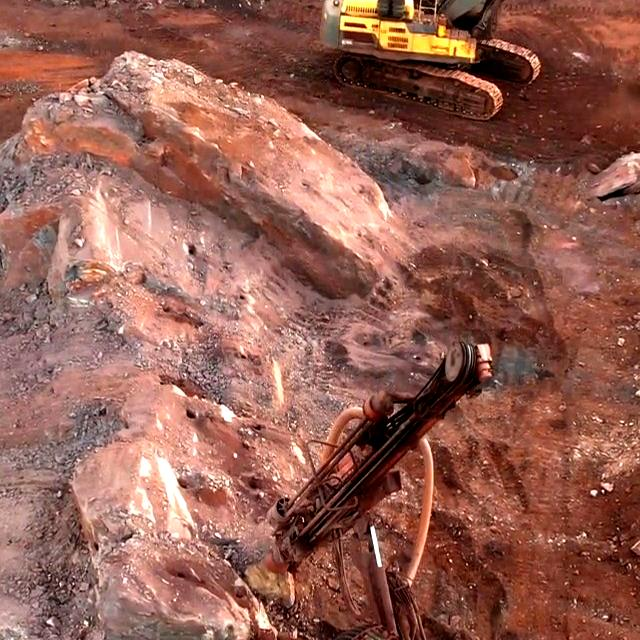Excavator: (328, 0, 525, 86)
